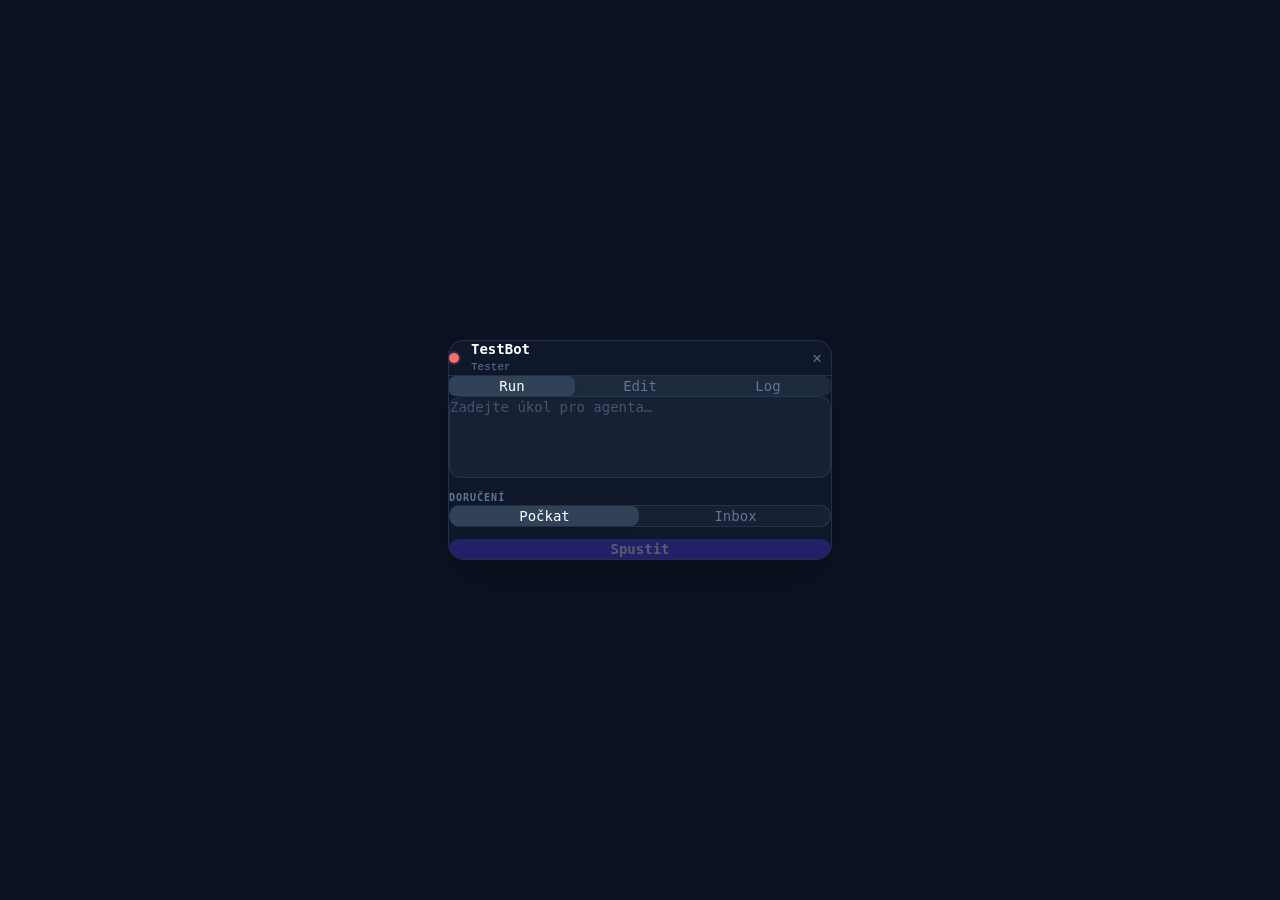
Scenario: AgentPanel Edit mode › Uložit button is disabled when name is empty
This screenshot has width=1280, height=900.
Click the button with test id "tab-edit". click: (640, 386)
box: [577,376,703,396]
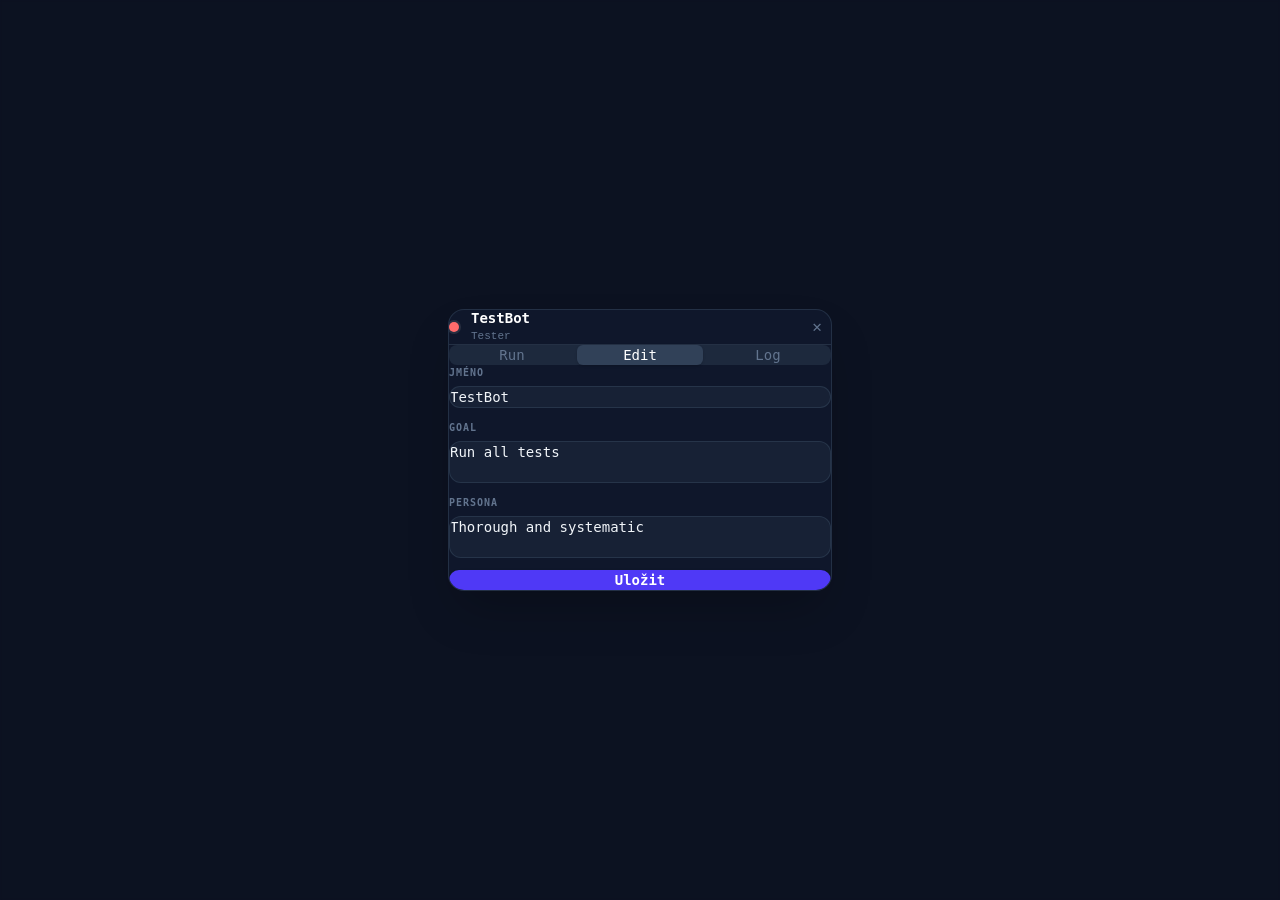
Clear the field with test id "edit-name-input". click: (640, 397)
box: [449,386,831,408]
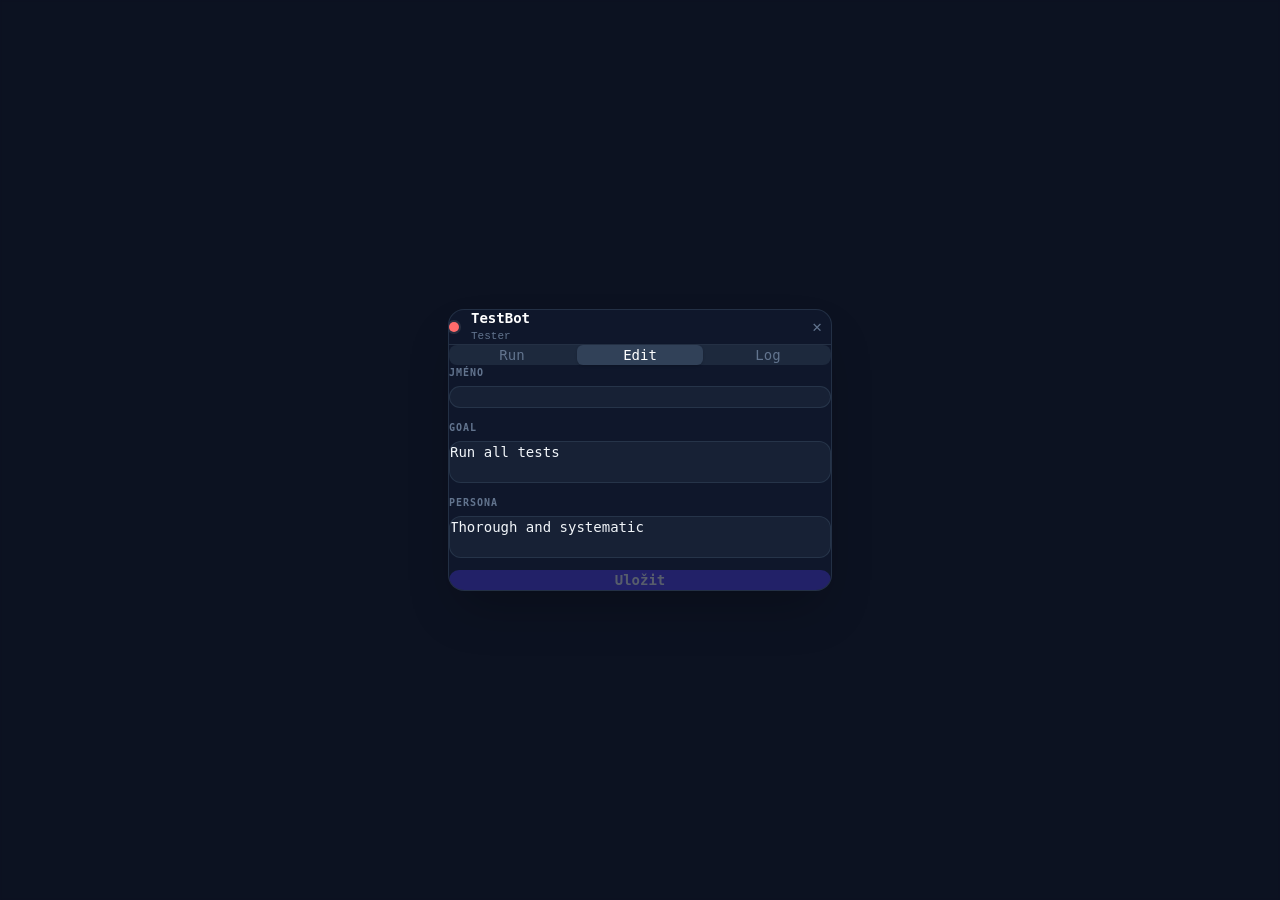
Expected: the button with test id "edit-save-btn" is disabled, [449,570,831,590]
